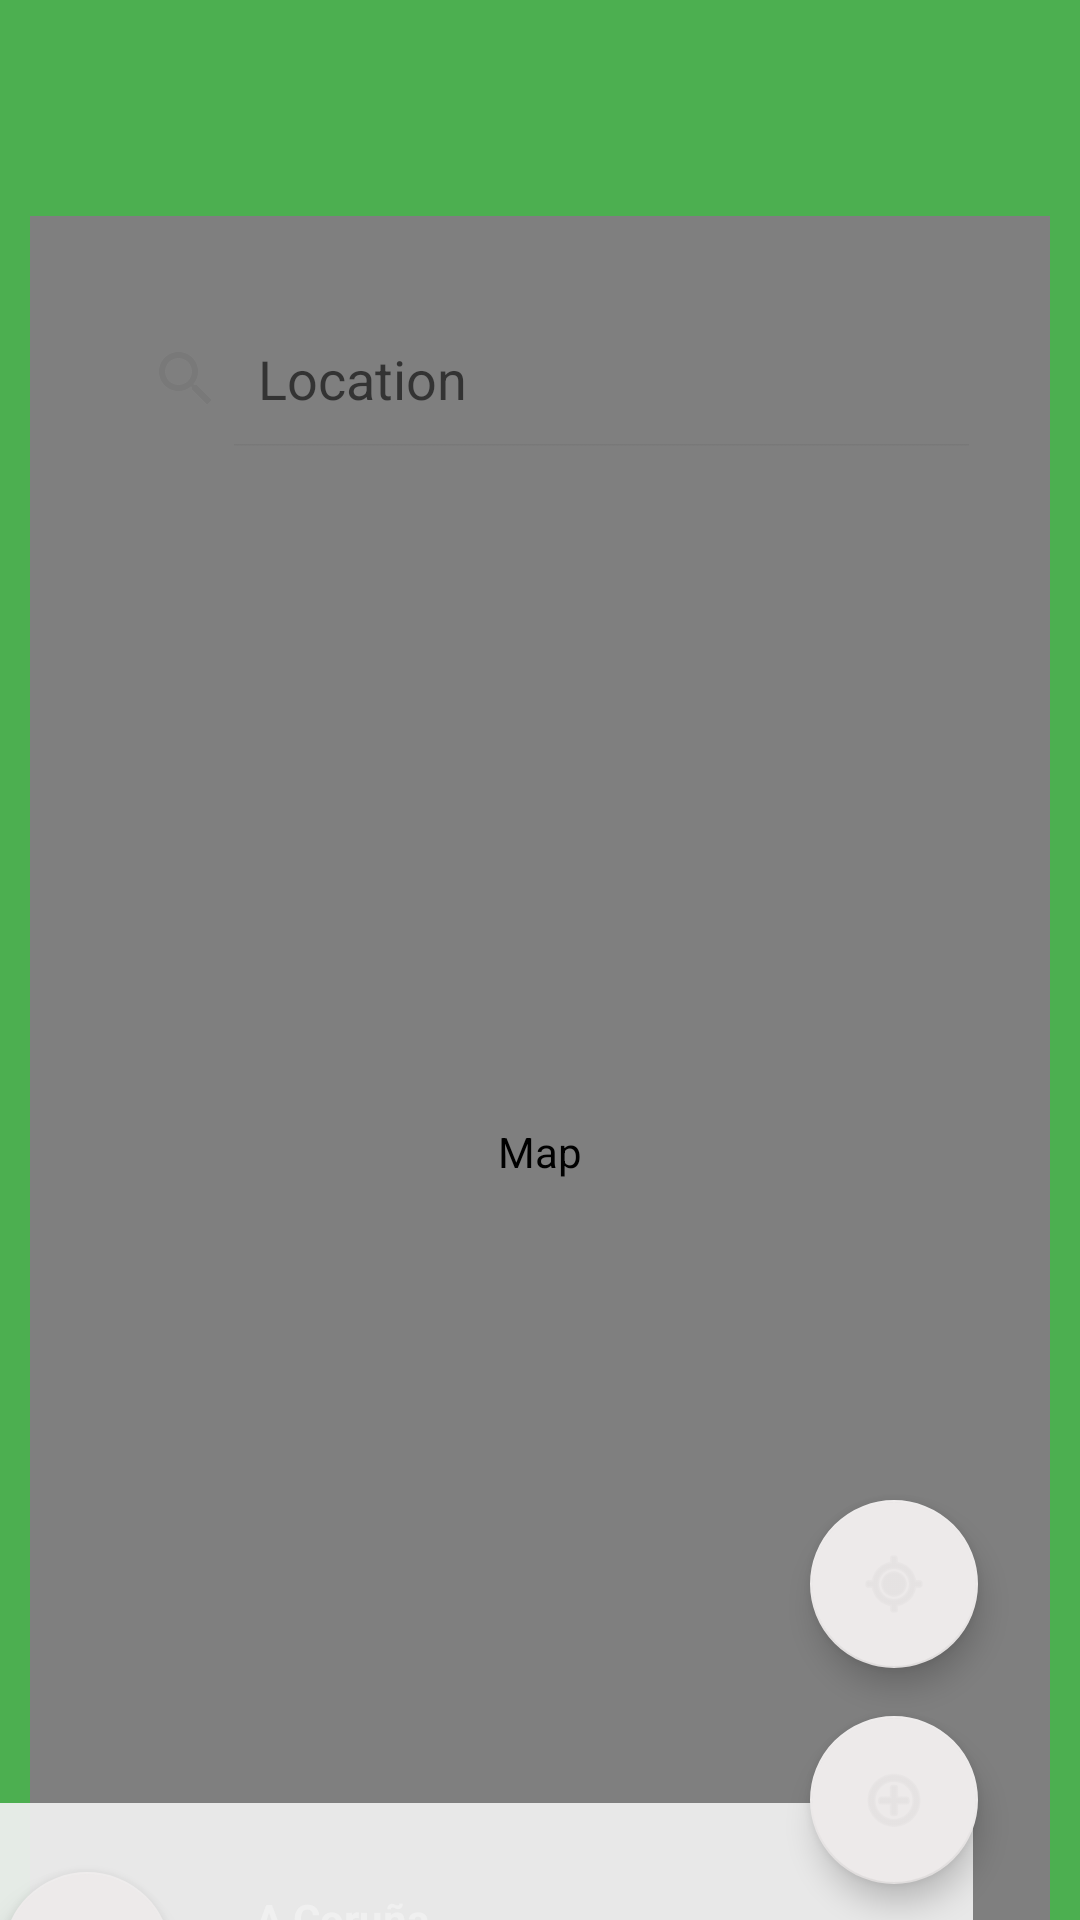

Where to tap for icons on this 1080w x 1920h app screen, as (x,y):
Location compass button: (894,1584)
Plus button: (894,1800)
